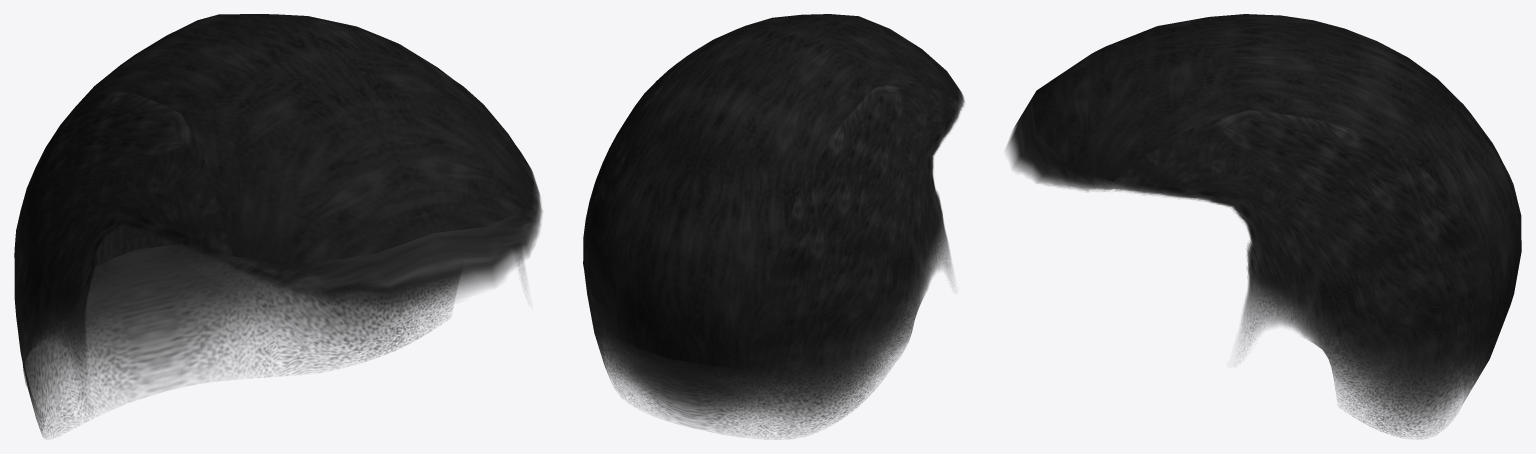
File: Oval_Straight_01.glb
The picture shows the model from 3 angles, left to right: view 1: azimuth 30°, elevation 25°; view 2: azimuth 150°, elevation 25°; view 3: azimuth 270°, elevation 25°; orthographic projection. The views are drawn at different scales.
Visible parts, largest first — view 1: oval_straight_01_buzz_cut; view 2: oval_straight_01_buzz_cut; view 3: oval_straight_01_buzz_cut.
Boxes of the visible parts, left/top/right/bottom form: oval_straight_01_buzz_cut: left=14, top=14, right=542, bottom=438; oval_straight_01_buzz_cut: left=583, top=14, right=964, bottom=439; oval_straight_01_buzz_cut: left=1006, top=14, right=1521, bottom=439.
Bounding box in the file's own units: 0.1821 × 0.1742 × 0.2264.
Materials: 1 (1 with a texture image).
